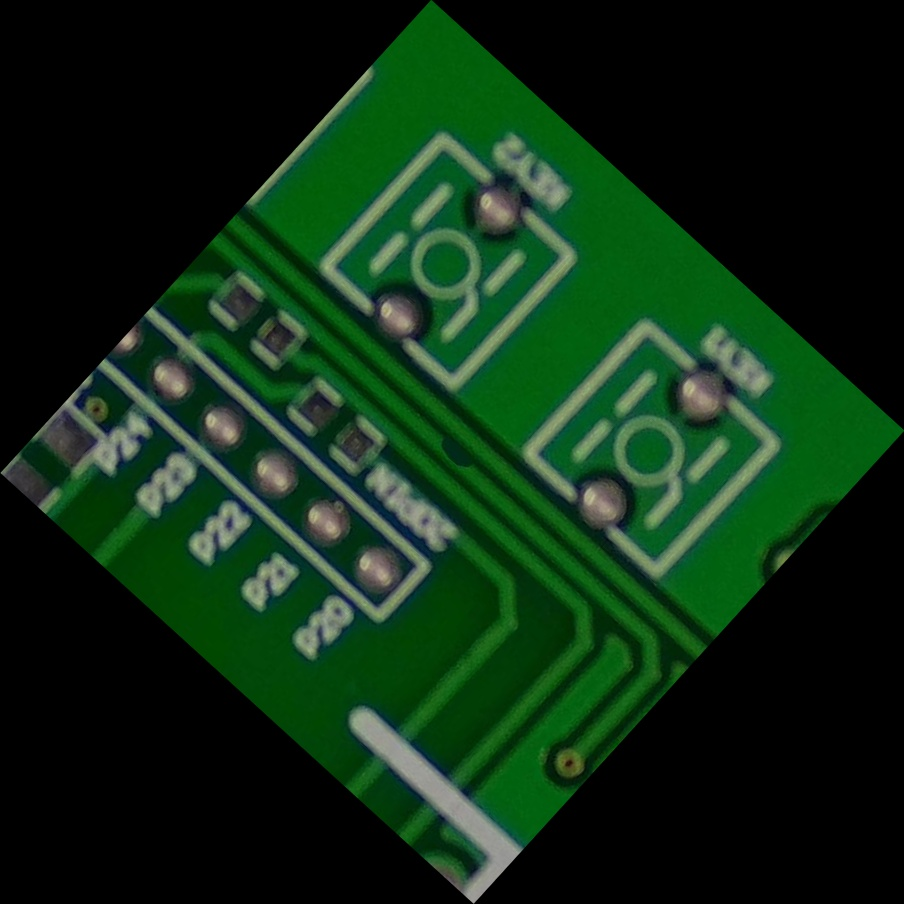mouse_bite: (408, 409, 497, 496)
